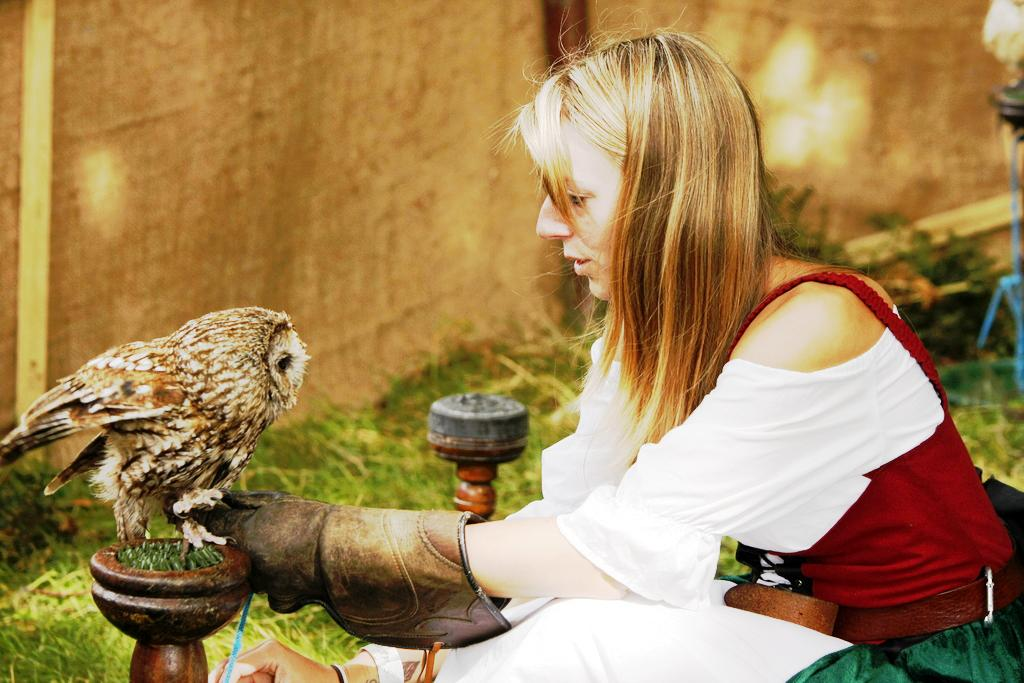Owl: (0, 304, 311, 556)
